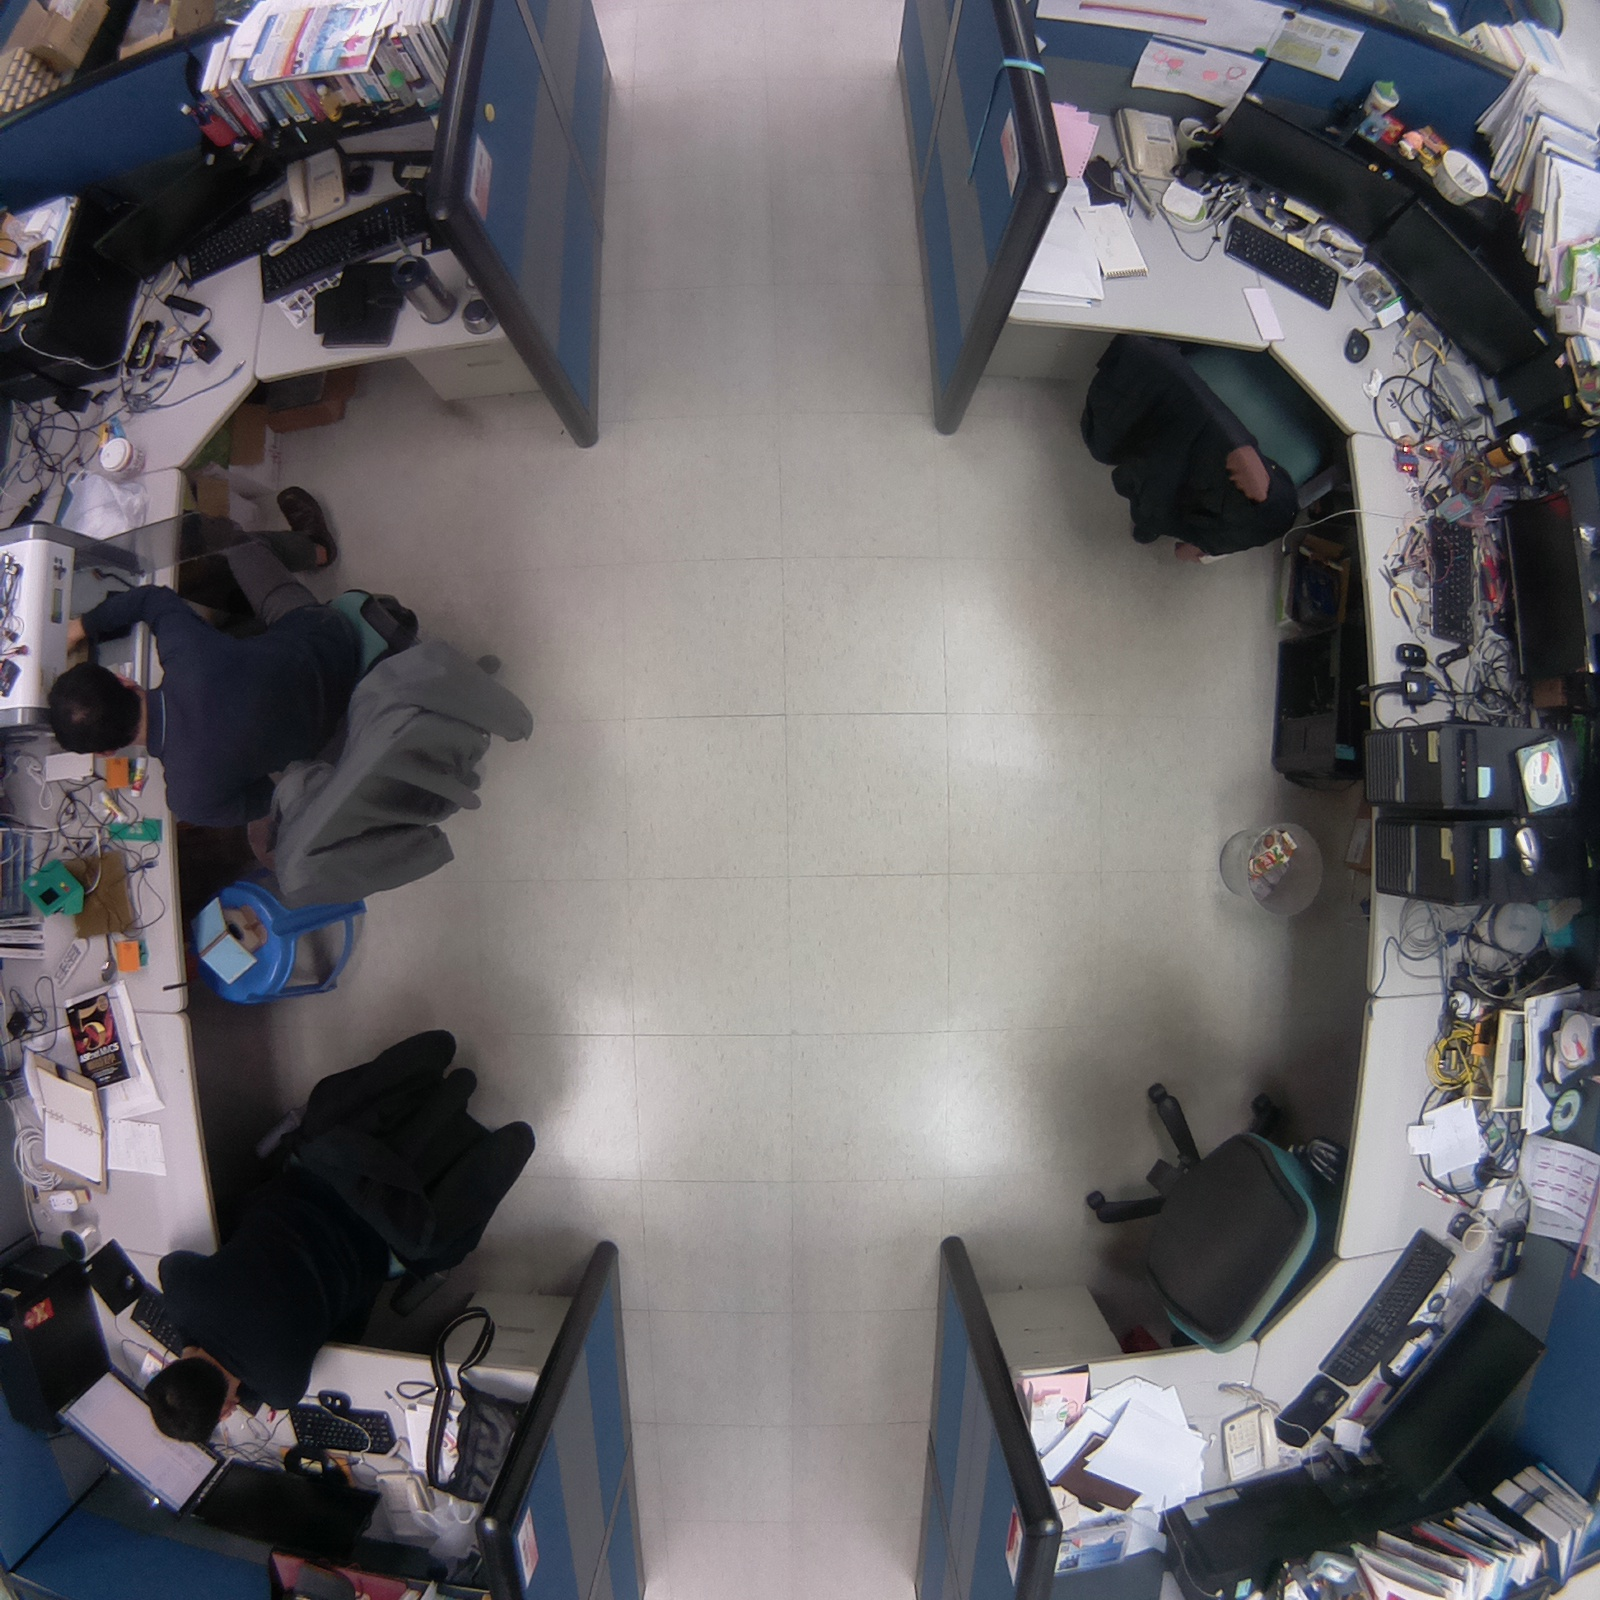chair: (1045, 1063, 1358, 1375), (1073, 314, 1347, 570)
head: (36, 659, 159, 765), (138, 1344, 246, 1448)
sitting: (30, 481, 542, 924), (135, 1014, 550, 1458)
